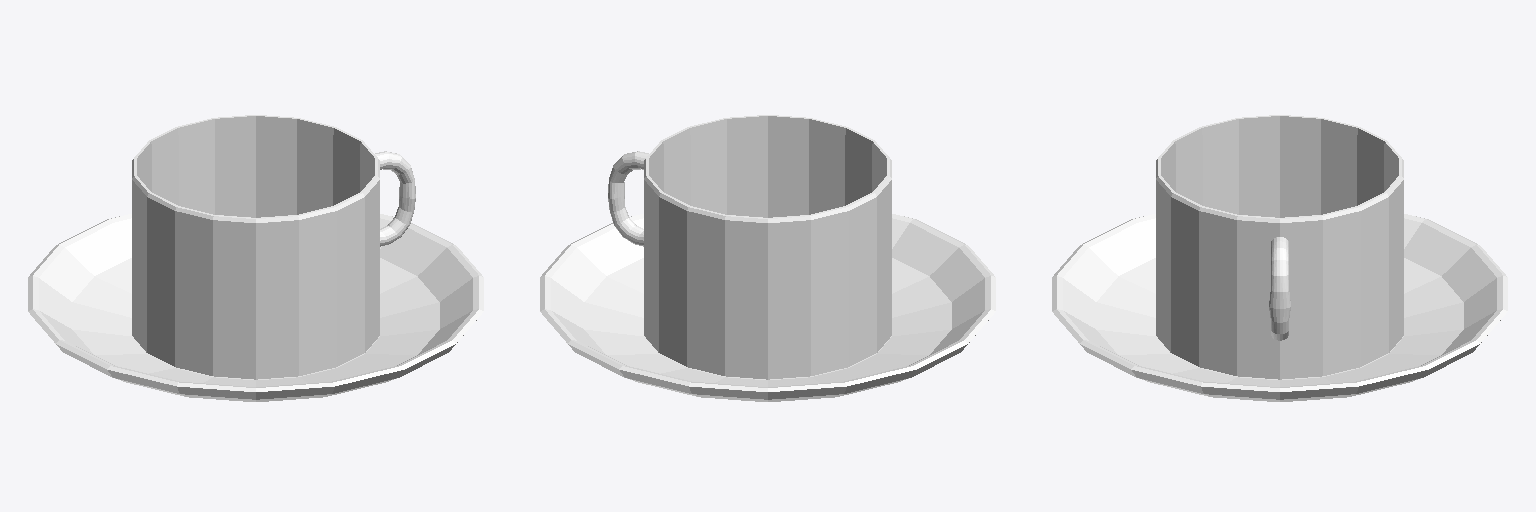
File: coffeecup.obj
3 renders of one model, left to right at view 1: azimuth 30°, elevation 25°; view 2: azimuth 150°, elevation 25°; view 3: azimuth 270°, elevation 25°, orthographic.
Parts seen in each view (by area): view 1: pCylinder3, pCylinder2, pCylinder4; view 2: pCylinder3, pCylinder2, pCylinder4; view 3: pCylinder3, pCylinder2, pCylinder4.
Boxes of the visible parts, <box> form: pCylinder3: <box>132,115,379,379</box>; pCylinder2: <box>28,214,483,401</box>; pCylinder4: <box>375,151,415,246</box>; pCylinder3: <box>644,115,891,379</box>; pCylinder2: <box>540,214,995,401</box>; pCylinder4: <box>608,151,648,246</box>; pCylinder3: <box>1156,115,1403,379</box>; pCylinder2: <box>1052,214,1507,401</box>; pCylinder4: <box>1269,237,1290,340</box>.
Bounding box in the file's own units: 1.79 × 0.7609 × 1.77.